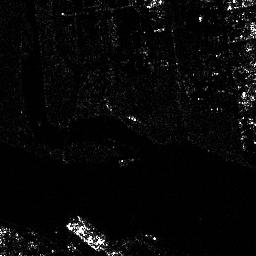ship: (73, 221, 109, 247)
